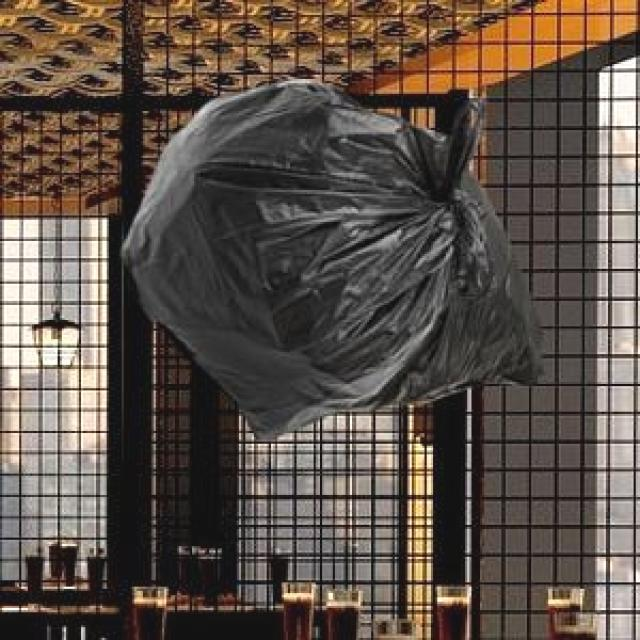Trashbag: (120, 71, 550, 450)
